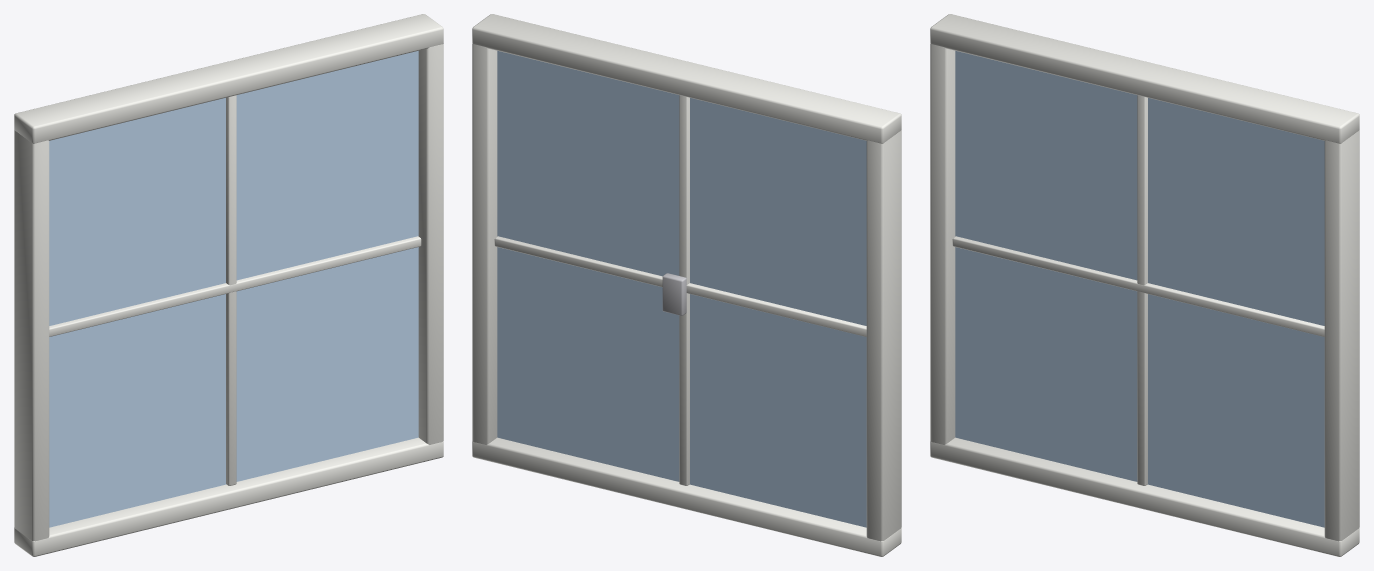
File: Window_Casement_1.2m.glb
3 views of the same model, side by side, from view 1: azimuth 30°, elevation 25°; view 2: azimuth 150°, elevation 25°; view 3: azimuth 330°, elevation 25° (orthographic).
Visible parts, largest first — view 1: Window_Casement_1.2m; view 2: Window_Casement_1.2m; view 3: Window_Casement_1.2m.
Part boxes in pixels (x1=…): Window_Casement_1.2m: x1=14, y1=14, x2=443, y2=556; Window_Casement_1.2m: x1=472, y1=14, x2=901, y2=556; Window_Casement_1.2m: x1=930, y1=14, x2=1359, y2=556.
Bounding box in the file's own units: 1.2 × 1.2 × 0.1255.
